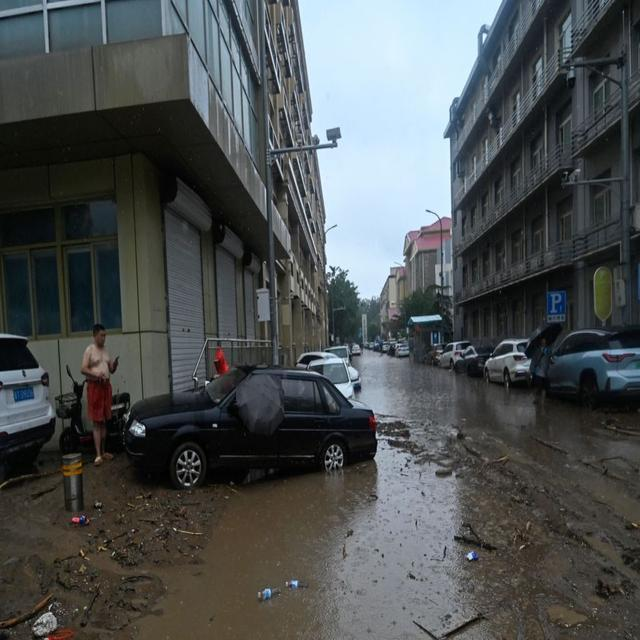Car-RiskLevel1: (542, 323, 640, 406)
Car-RiskLevel2: (125, 365, 389, 479)
Person-RiskLevel1: (77, 320, 136, 475), (520, 324, 569, 415)
